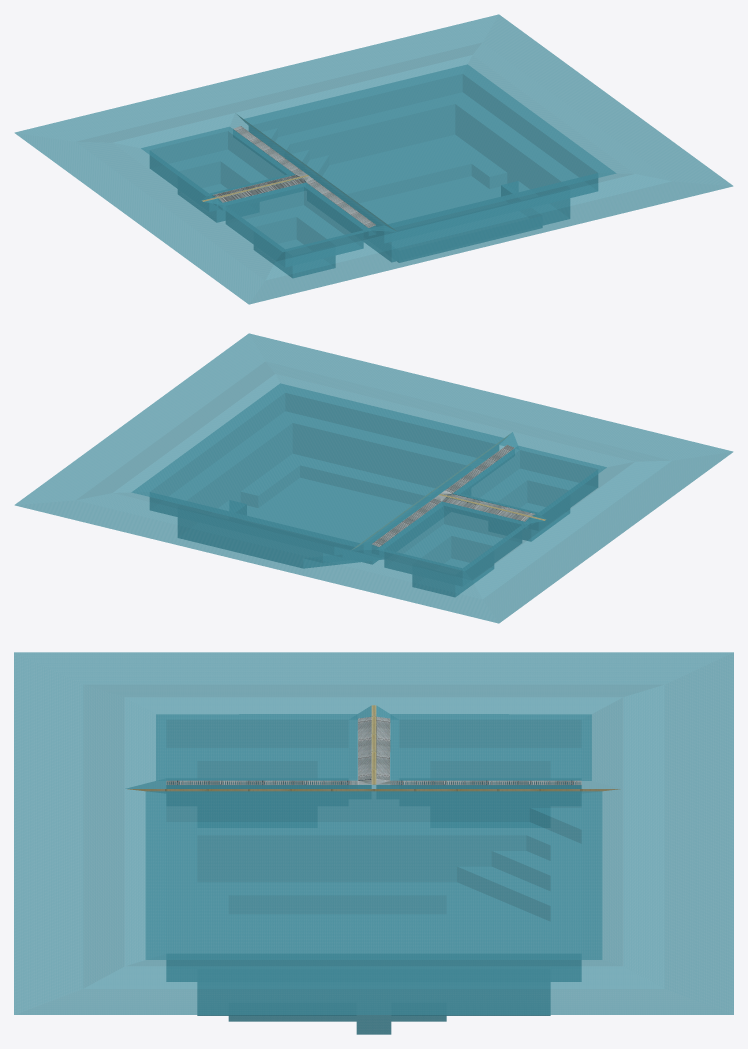
The model's file is swimming_pool_luxury.glb.
3 views of the same model, one above another, from view 1: azimuth 30°, elevation 25°; view 2: azimuth 150°, elevation 25°; view 3: azimuth 270°, elevation 25° (orthographic). The views are drawn at different scales.
Visible parts, largest first — view 1: Swimming_Pool; view 2: Swimming_Pool; view 3: Swimming_Pool.
Part boxes in pixels (<box>): Swimming_Pool: <box>14,14,733,304</box>; Swimming_Pool: <box>14,333,733,623</box>; Swimming_Pool: <box>14,652,733,1034</box>.
Size of the model in its own units: 12.4 by 1.58 by 10.4.
Materials: 4 (3 with a texture image).
